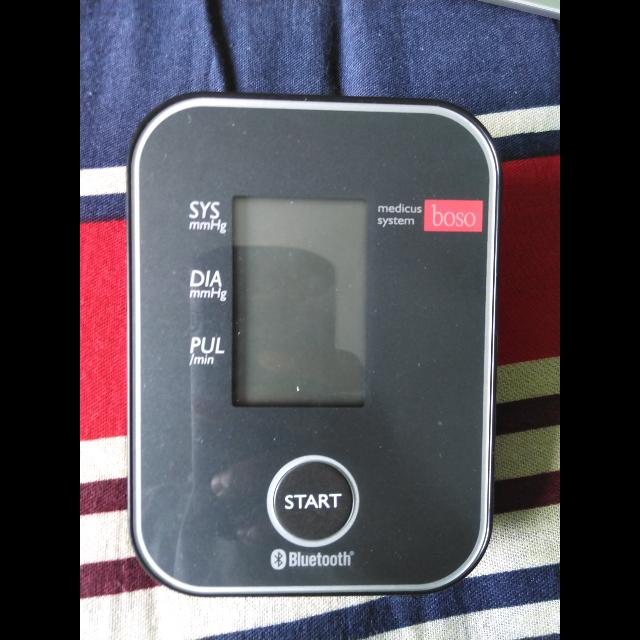Blood-Pressure-Monitor: (132, 90, 498, 590)
